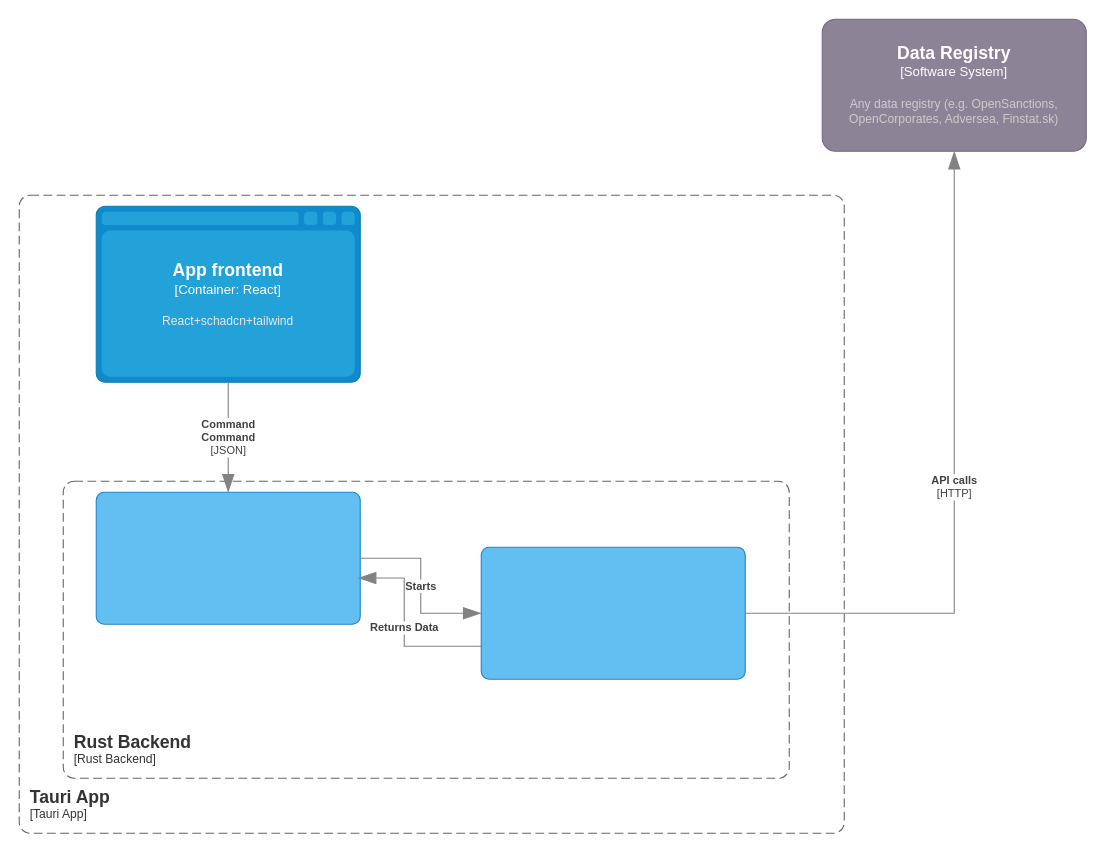
This 1106x853 diagram has some shape labels left out. The centre of each missing label's shape, as x and y in pixels:
JS Plugin Executor [Component: Deno Runtime]: [612,612]
Rust Code [Component: e.g. Spring Service] Rust Code: [227,557]
